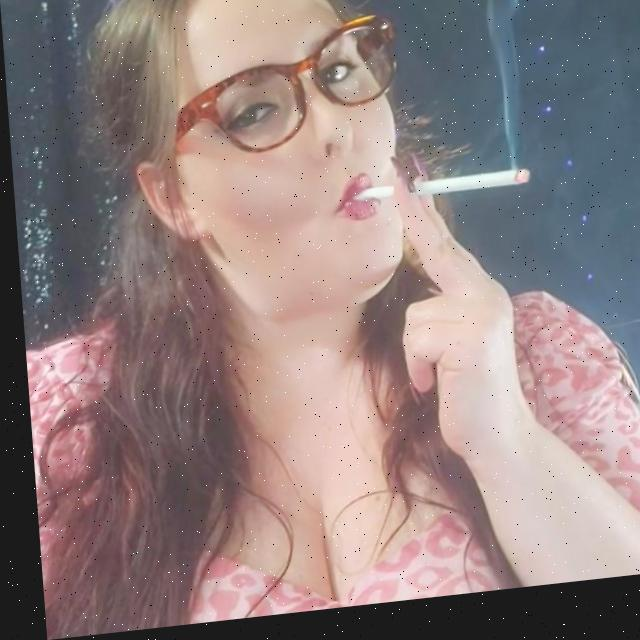cigarette: (353, 178, 529, 211)
